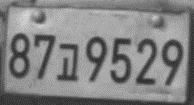2: (134, 37, 158, 86)
5: (109, 35, 133, 84)
7: (31, 32, 56, 82)
8: (9, 31, 30, 79)
9: (161, 37, 185, 88), (83, 35, 108, 83)
고: (55, 42, 78, 82)
